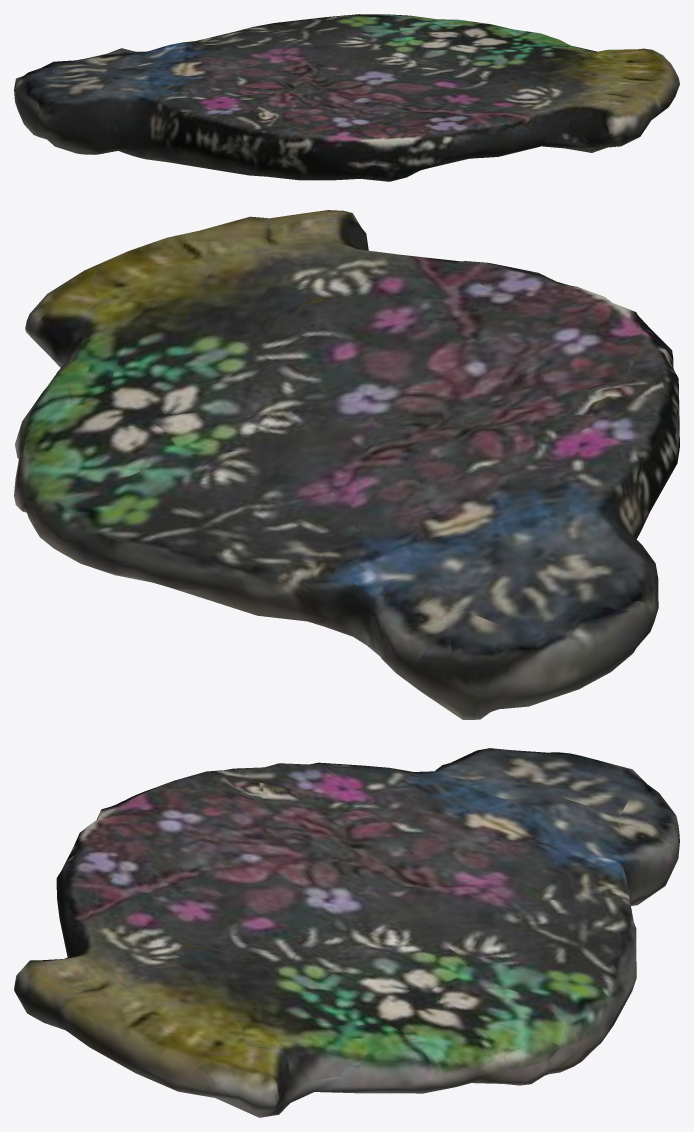
The model's file is hall.glb.
3 renders of one model, top to bottom at view 1: azimuth 30°, elevation 25°; view 2: azimuth 150°, elevation 25°; view 3: azimuth 270°, elevation 25°, orthographic. The views are drawn at different scales.
Size of the model in its own units: 0.5945 by 0.1181 by 0.4903.
1 material, 1 textured.
